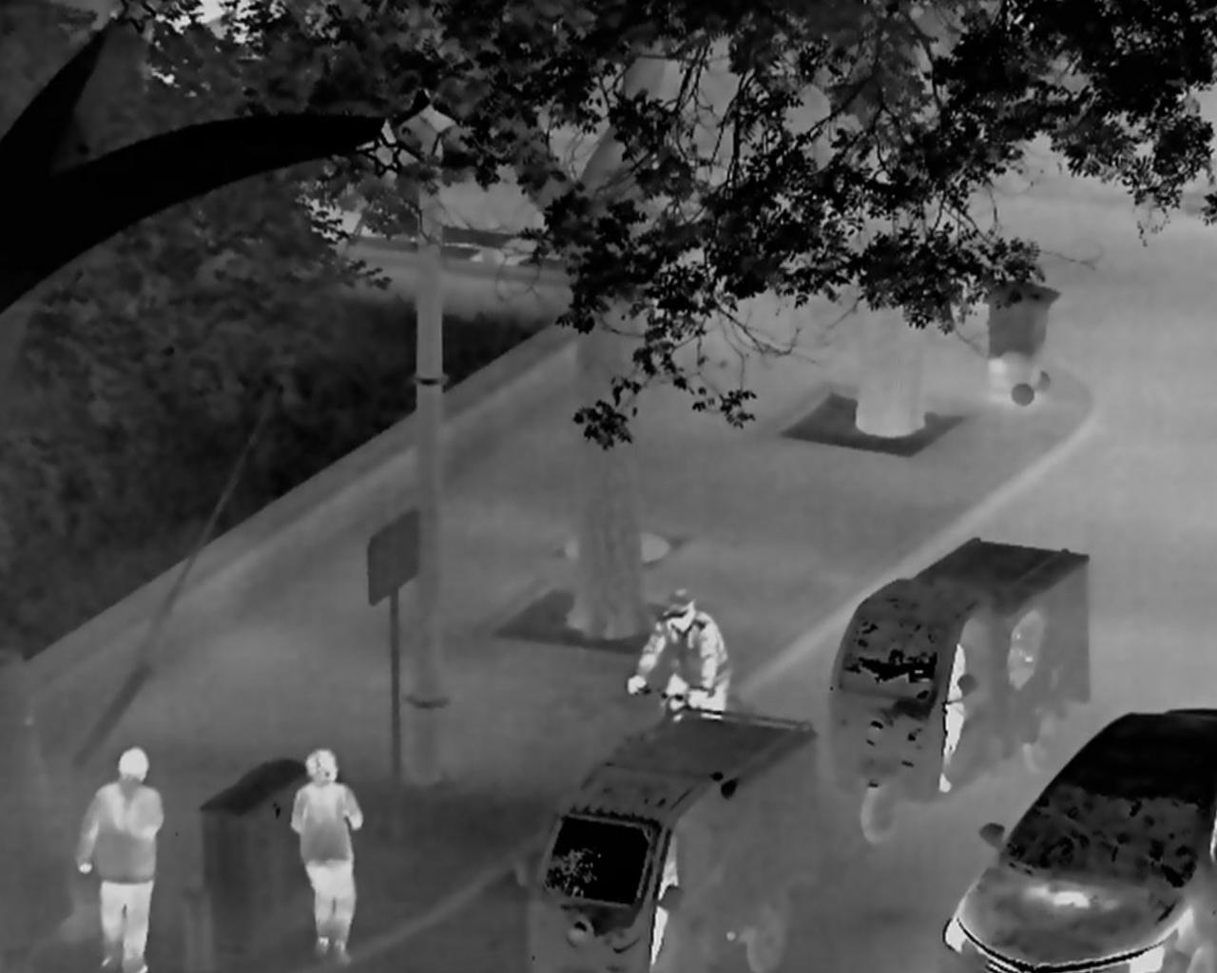person: (76, 746, 164, 973), (289, 747, 364, 965), (626, 587, 729, 719), (937, 641, 966, 792), (647, 829, 679, 965)
